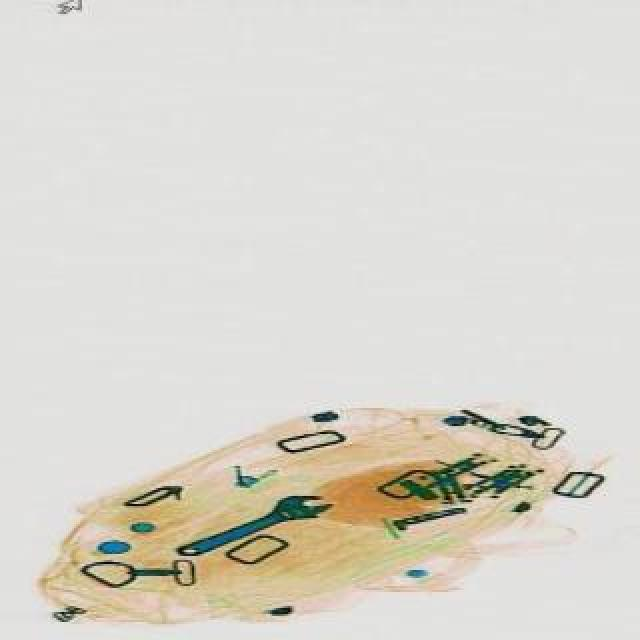scissors: (176, 482, 336, 568)
